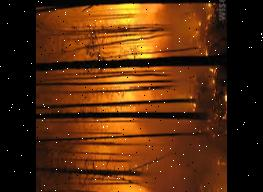fire: (102, 0, 227, 192)
